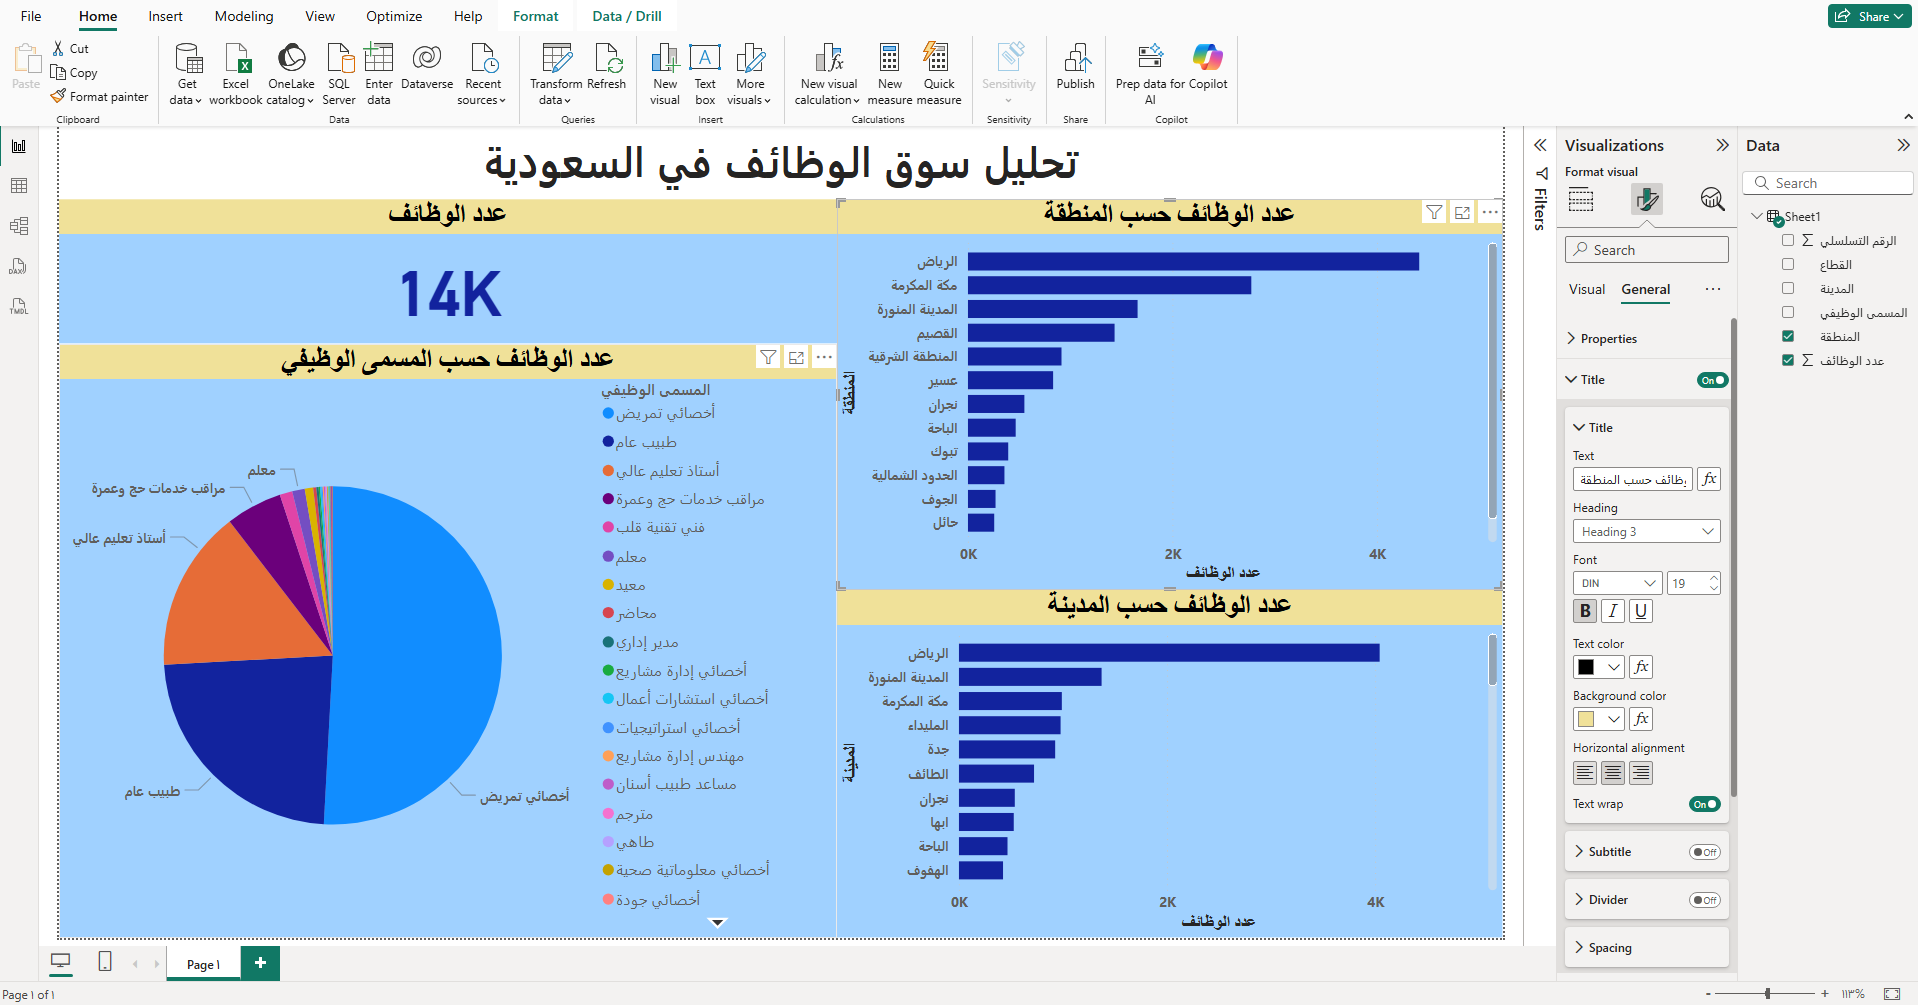

Layout of this report page (visuals, bound fields, positions):
{"tool":"powerbi","page":{"name":"Page ١","canvas":[1280,720],"ordinal":0},"visuals":[{"type":"card","title":"عدد الوظائف","fields":{"Values":["Sum(Sheet1.عدد الوظائف)"]},"box":[0,65.2,689.6,128.4],"z":0},{"type":"barChart","title":"عدد الوظائف حسب المنطقة","fields":{"Category":["Sheet1.المنطقة "],"Y":["Sum(Sheet1.عدد الوظائف)"]},"box":[689.6,65.2,590.4,346.3],"z":1},{"type":"barChart","title":"عدد الوظائف حسب المدينة","fields":{"Category":["Sheet1.المدينة"],"Y":["Sum(Sheet1.عدد الوظائف)"]},"box":[689.6,411.4,590.4,308.3],"z":2},{"type":"pieChart","title":"عدد الوظائف حسب المسمى الوظيفي","fields":{"Y":["Sum(Sheet1.عدد الوظائف)"],"Category":["Sheet1.المسمى الوظيفي"]},"box":[0,193.6,689.6,526.2],"z":3},{"type":"textbox","box":[0,0,1280,65.2],"z":4}]}

Visuals, with their boxes on the page's 1280x720 design canvas (x1, y1, x2, y2). These are canvas units, not pixel positions in the 1918x1005 screenshot, which may show the page scaled, cropped or inside an application window:
"عدد الوظائف" card: left=0, top=65, right=690, bottom=194
"عدد الوظائف حسب المنطقة" barChart: left=690, top=65, right=1280, bottom=412
"عدد الوظائف حسب المدينة" barChart: left=690, top=411, right=1280, bottom=720
"عدد الوظائف حسب المسمى الوظيفي" pieChart: left=0, top=194, right=690, bottom=720
textbox: left=0, top=0, right=1280, bottom=65
